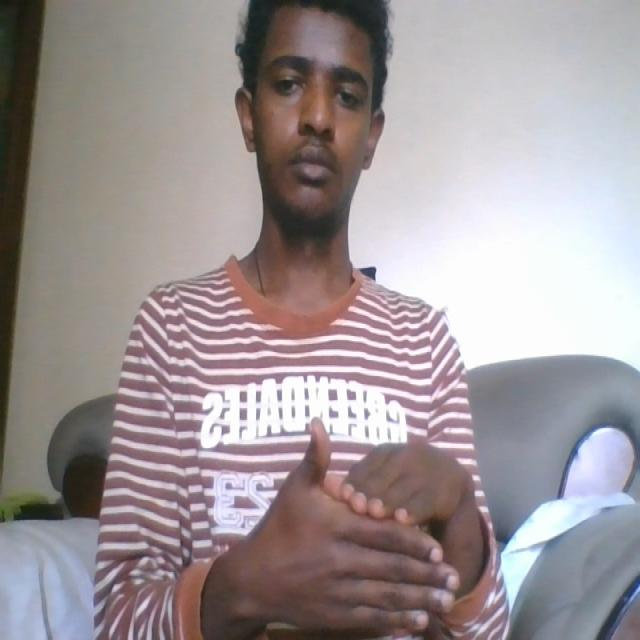tadya: (294, 438, 467, 636)
